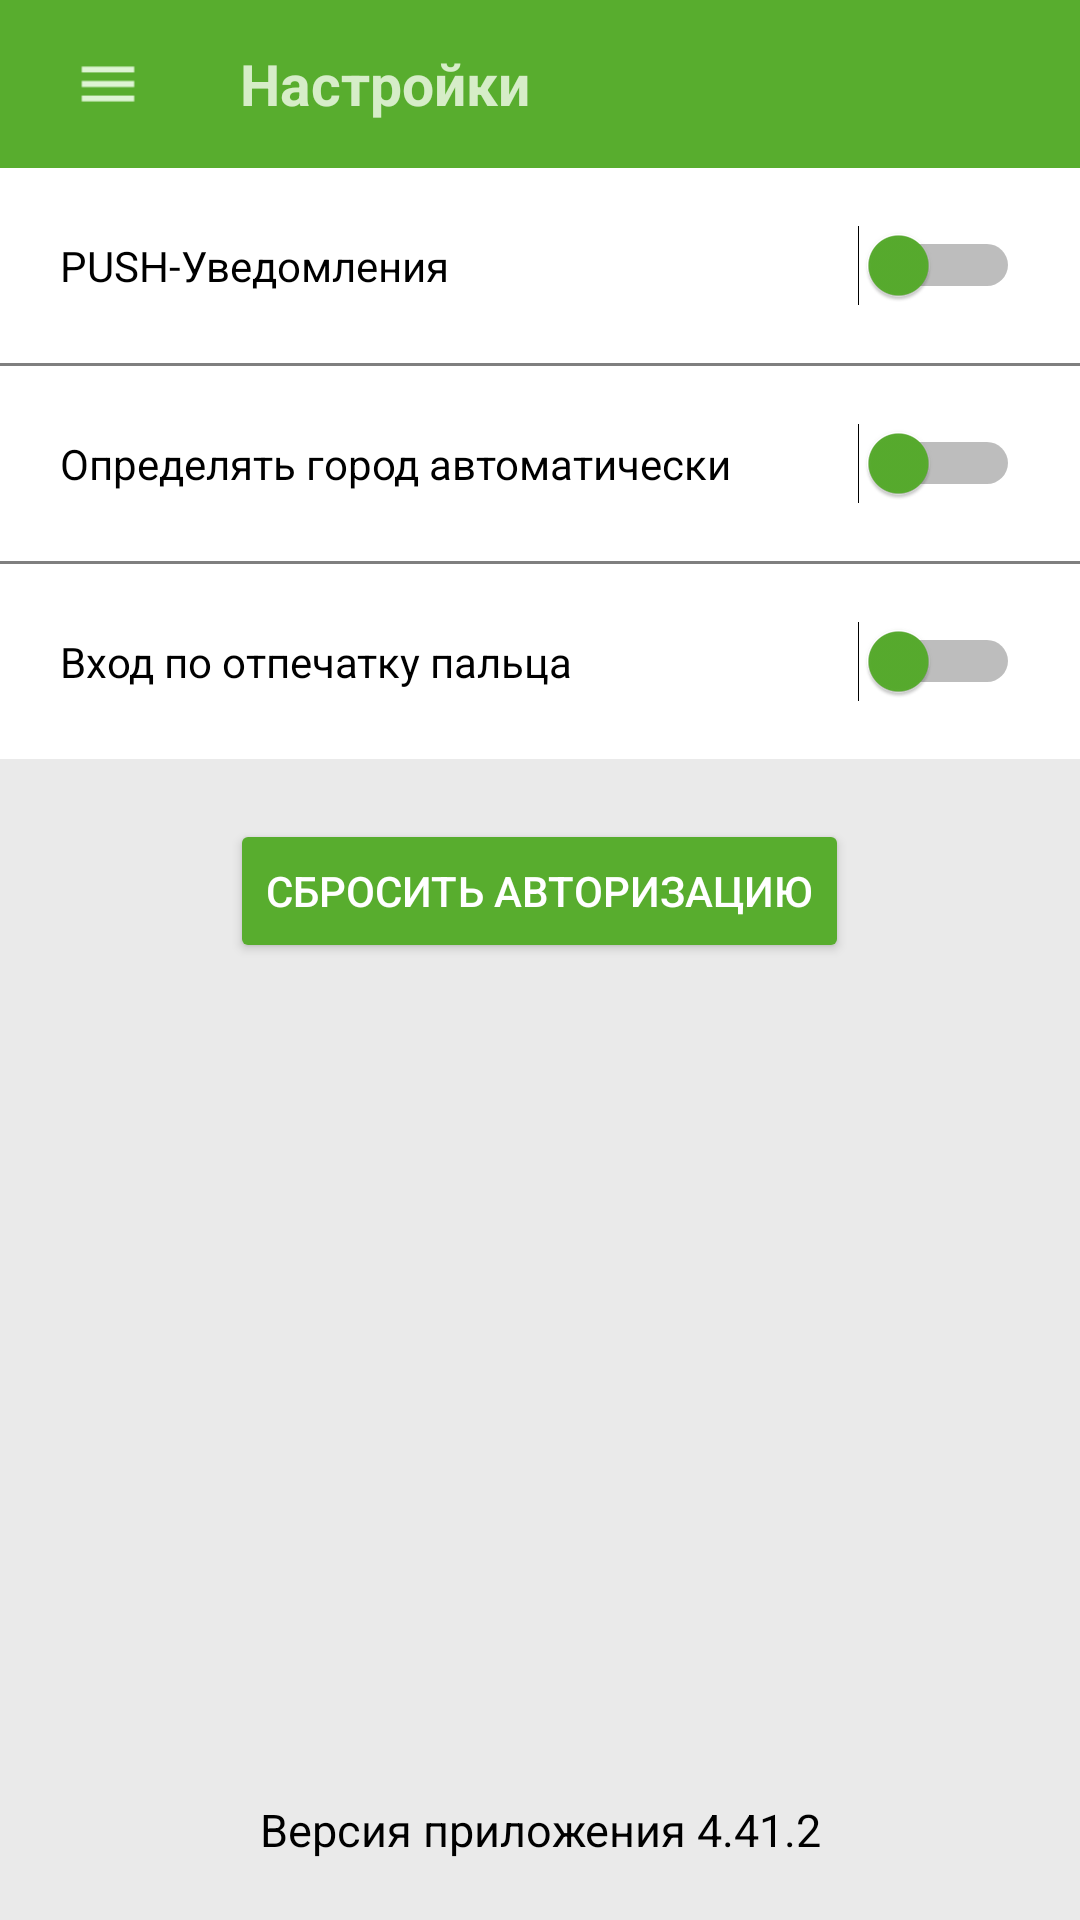

Screen size 1080 × 1920. Icon name, then its center in pixels as (x=x, y=y):
menu: (x=108, y=84)
